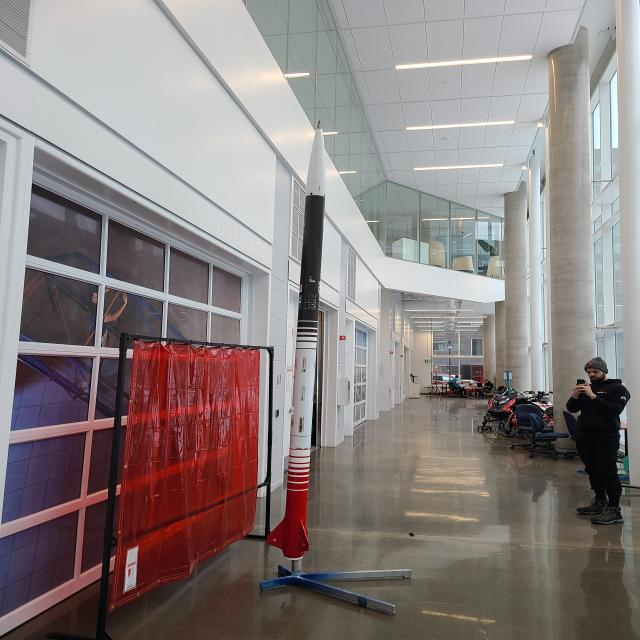Rocket: (267, 120, 326, 558)
